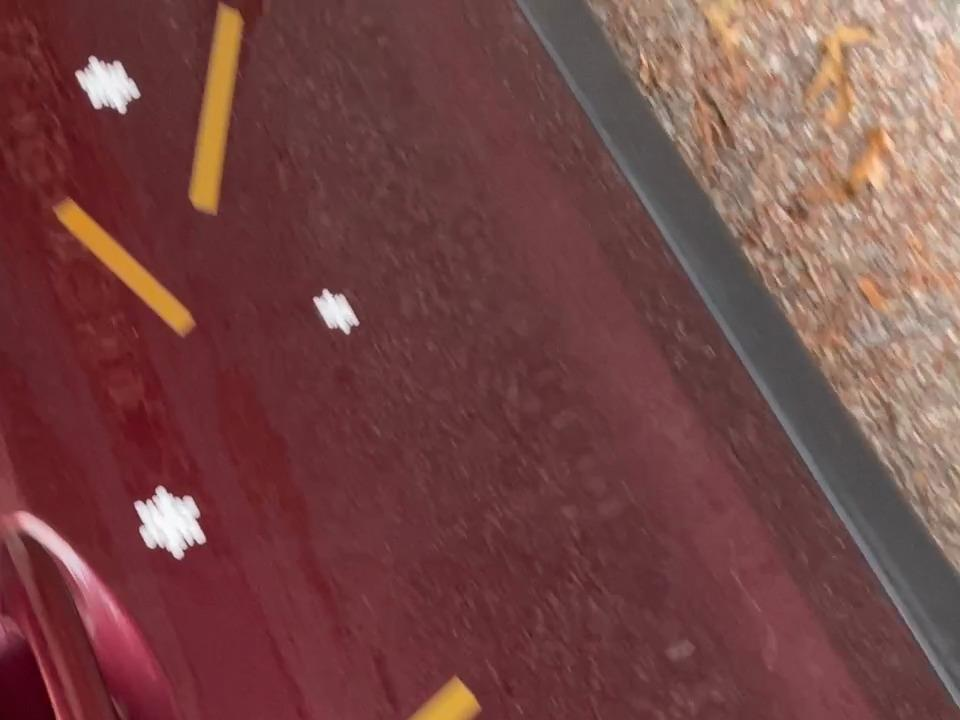dent: (131, 474, 217, 564), (69, 49, 150, 118), (301, 274, 371, 348)
scratch: (44, 181, 210, 348), (181, 0, 249, 224), (298, 661, 486, 720)
